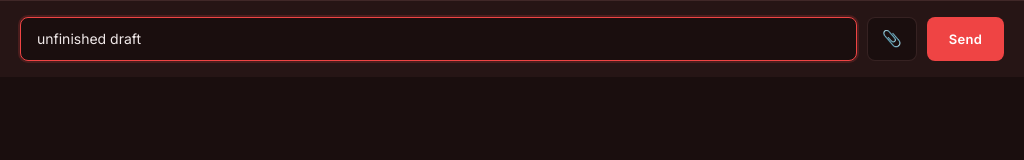
comfortable history recall › keeps plain arrows for caret movement and Escape cancels recall
Press ArrowUp in the text box, box [20,17,857,61]
Press ArrowUp in the text box, box [20,17,857,61]
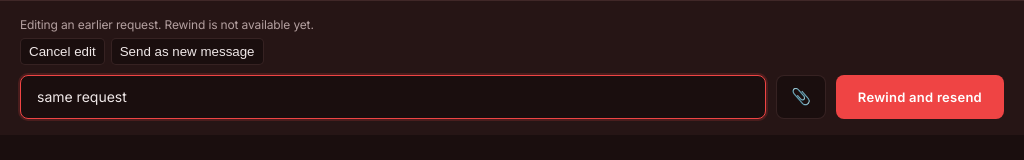
Replace the text in the text box with "edited earlier request" at (393, 97), box [20,75,766,119]
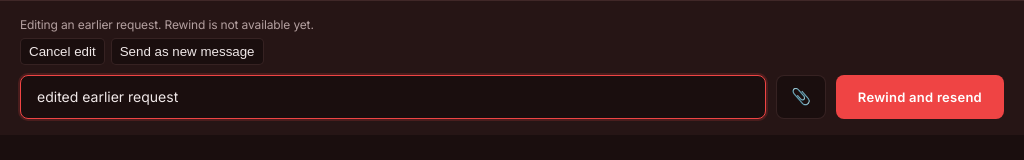
Press Escape in the text box, box [20,75,766,119]
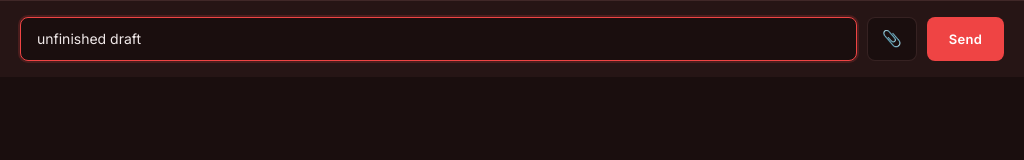
Result: the text box holds "unfinished draft" at [20,17,857,61]
